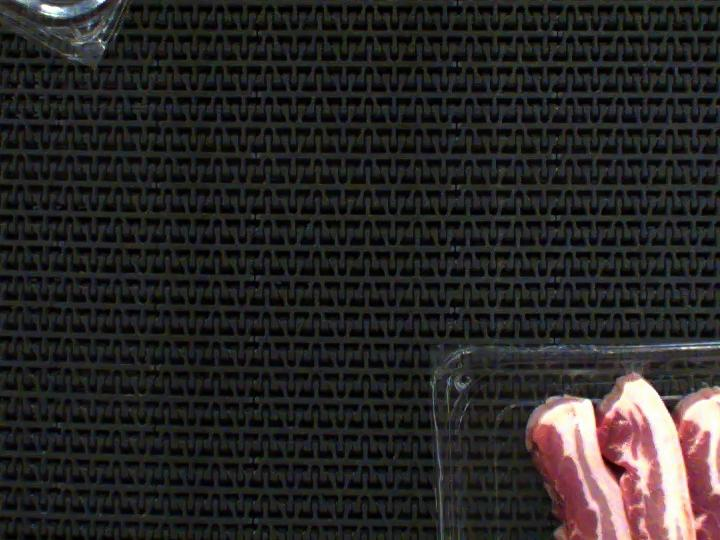packaging-error: (613, 347, 652, 387)
